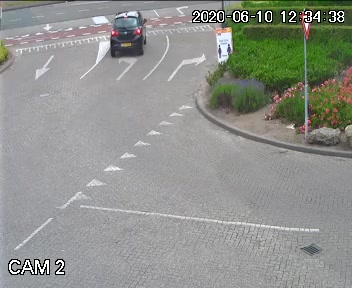car: (107, 10, 144, 60)
